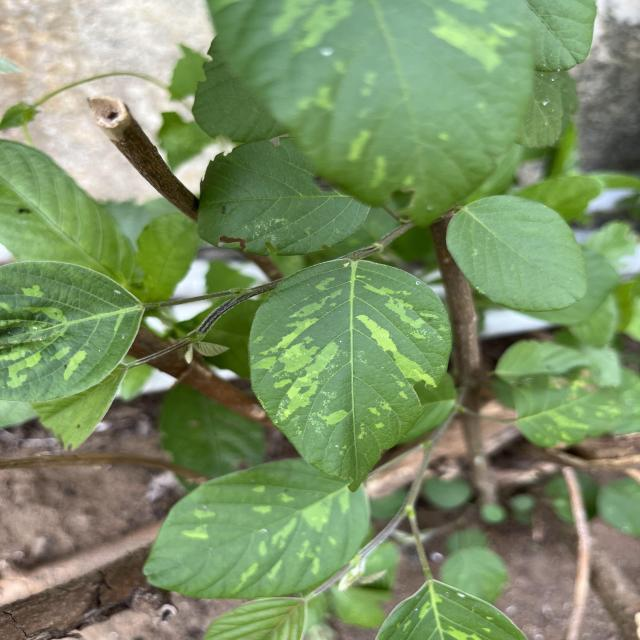Desmodium gangeticum: (242, 255, 456, 494)
